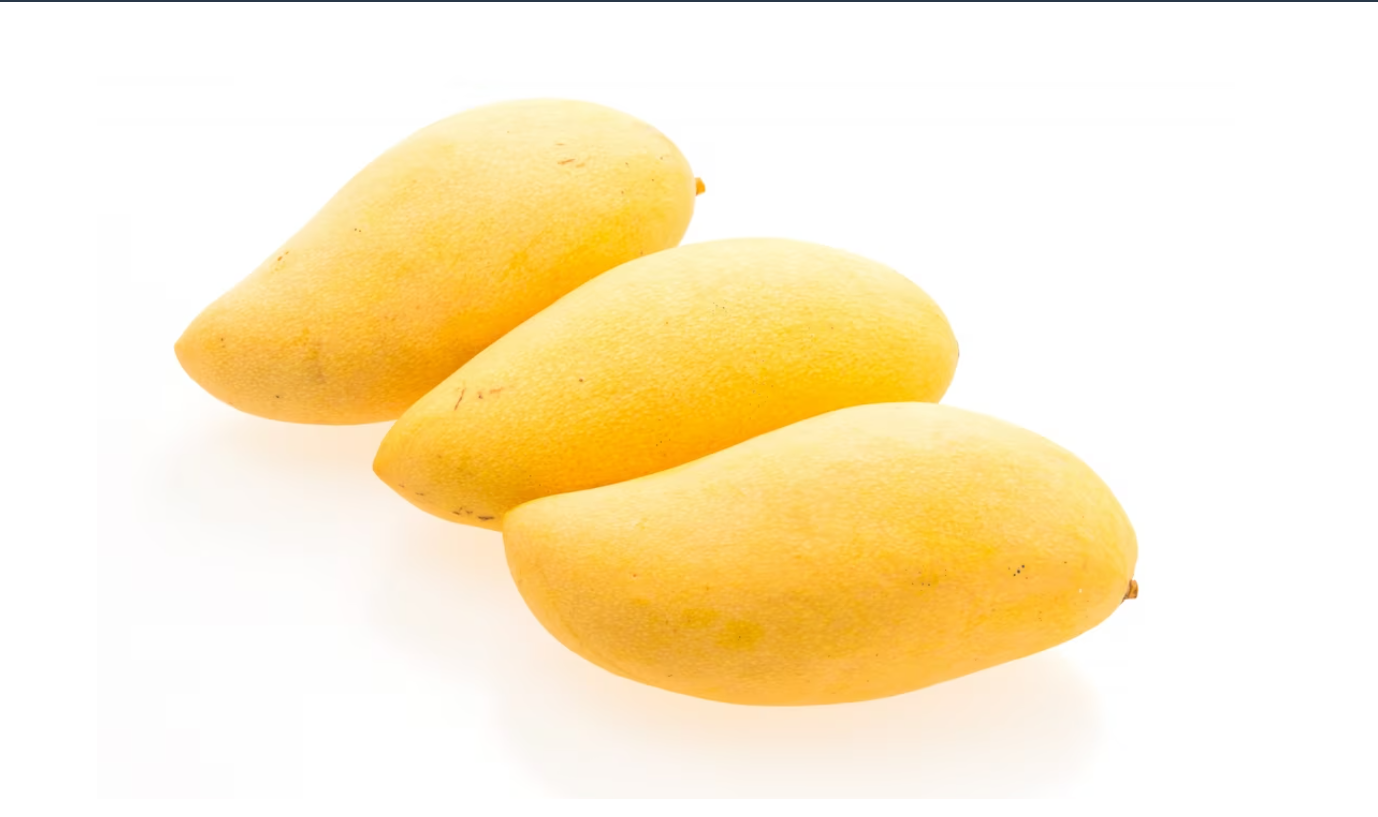mango: (507, 399, 1137, 702), (369, 230, 956, 546), (174, 90, 701, 427)
